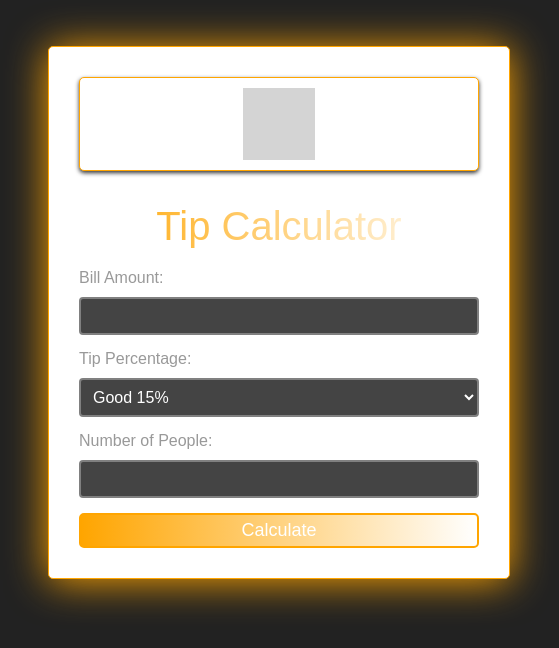
Test case: TipCalculator › 3. Displays error for negative bill amount
In the number field labelled "Bill Amount:": {"x": 279, "y": 316} [79,297,479,335], type "-100"
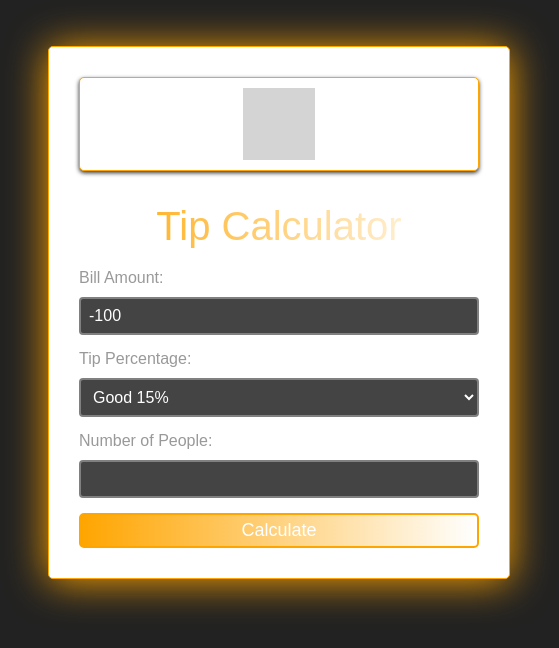
Select "Good 15%" in the dropdown labelled "Tip Percentage:": {"x": 279, "y": 398} [79,378,479,417]
In the number field labelled "Number of People:": {"x": 279, "y": 479} [79,460,479,498], type "2"
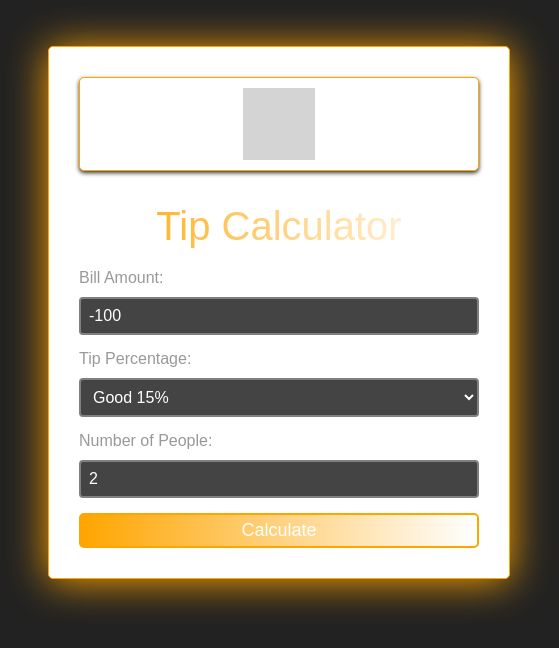
Click the button "Calculate": {"x": 279, "y": 531} [79,513,479,548]
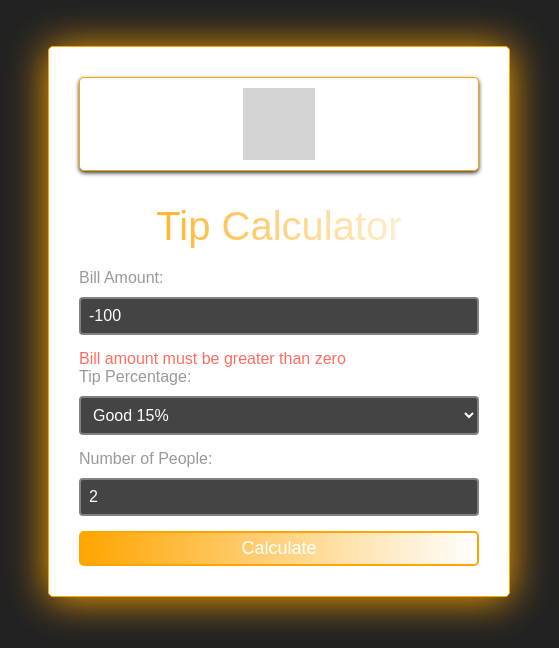
Result: the text "Bill amount must be greater than zero" is shown at [79,350,346,367]
